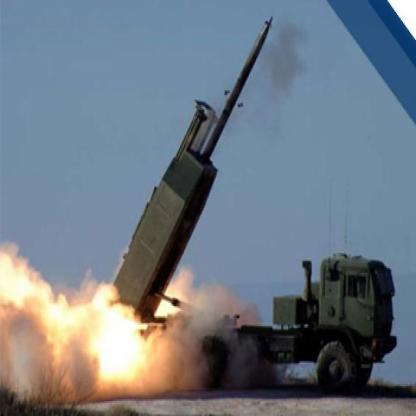MIL_TBM: (198, 0, 280, 168)
